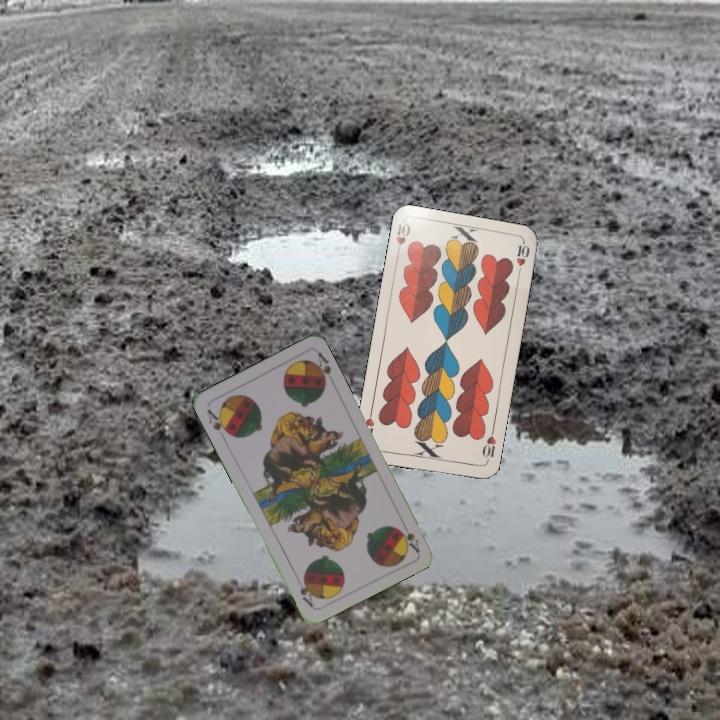H10: (392, 219, 413, 259), (478, 425, 498, 466)
SA: (203, 405, 233, 442), (395, 524, 422, 555)
